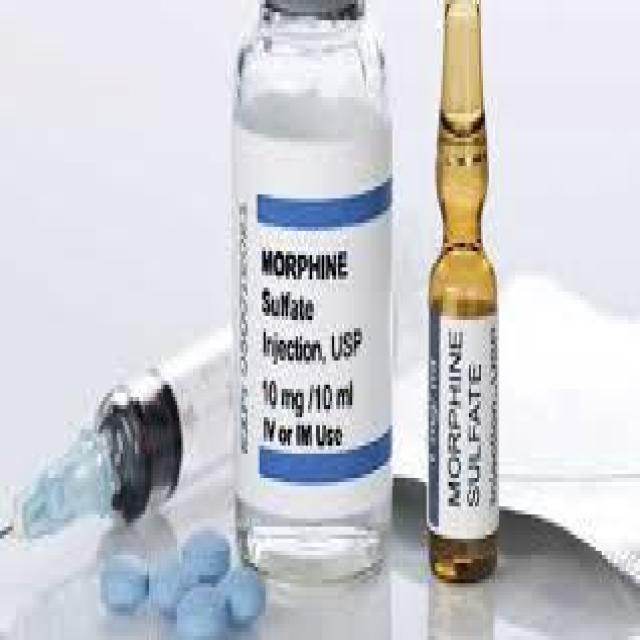B3: (417, 4, 521, 608)
